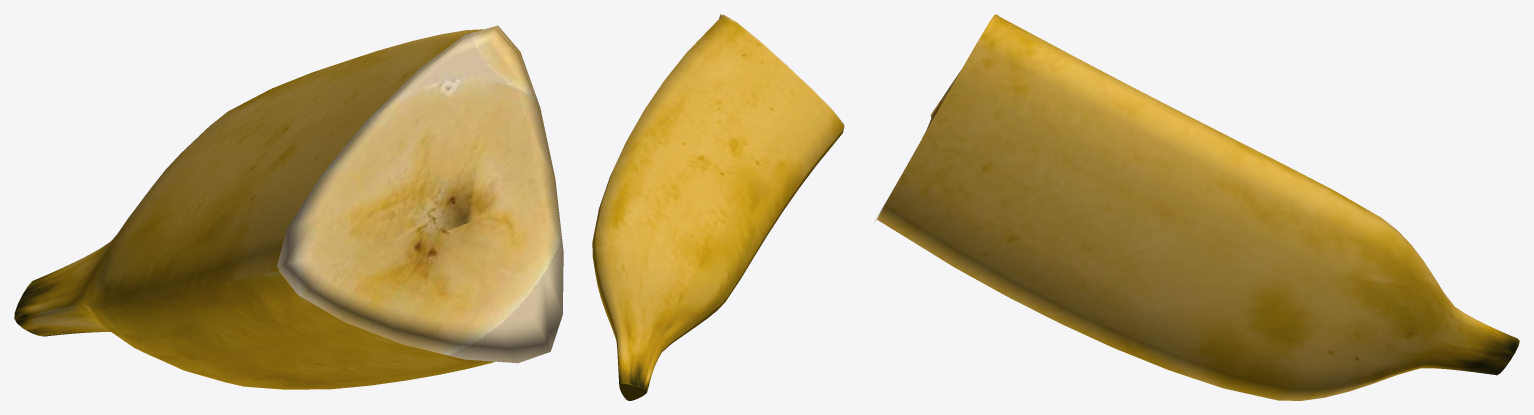
Rendered from banana_half_top.obj.
3 views of the same model, side by side, from view 1: azimuth 30°, elevation 25°; view 2: azimuth 150°, elevation 25°; view 3: azimuth 270°, elevation 25° (orthographic). The views are drawn at different scales.
Visible parts, largest first — view 1: ____01, Line02; view 2: ____01; view 3: ____01.
Part boxes in pixels (bbox=[...]): ____01: bbox=[14, 29, 560, 389]; Line02: bbox=[277, 25, 563, 363]; ____01: bbox=[592, 14, 844, 400]; ____01: bbox=[877, 14, 1519, 400].
Bounding box in the file's own units: 0.3236 × 0.5464 × 0.7906.
